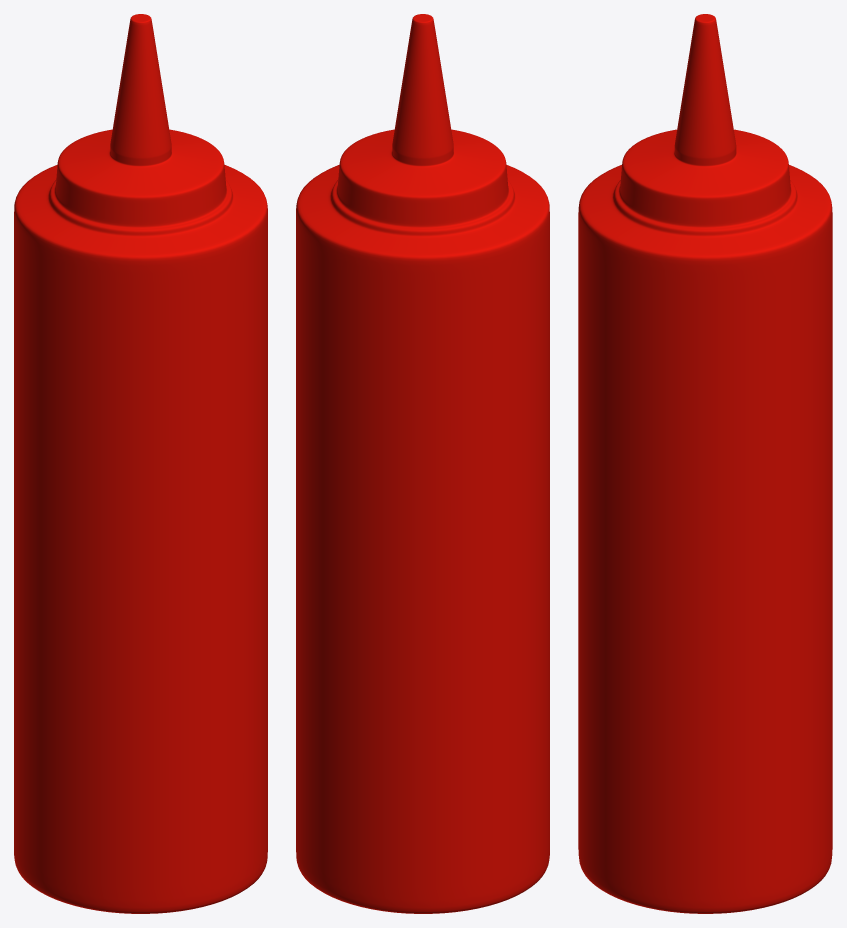
Rendered from ketchup.fbx.
3 renders of one model, left to right at view 1: azimuth 30°, elevation 25°; view 2: azimuth 150°, elevation 25°; view 3: azimuth 270°, elevation 25°, orthographic.
Parts seen in each view (by area): view 1: ketchup; view 2: ketchup; view 3: ketchup.
Part boxes in pixels (left/top/right/bottom): ketchup: left=14, top=14, right=267, bottom=913; ketchup: left=296, top=14, right=549, bottom=913; ketchup: left=578, top=14, right=832, bottom=913.
Size of the model in its own units: 382 by 1403 by 382.
